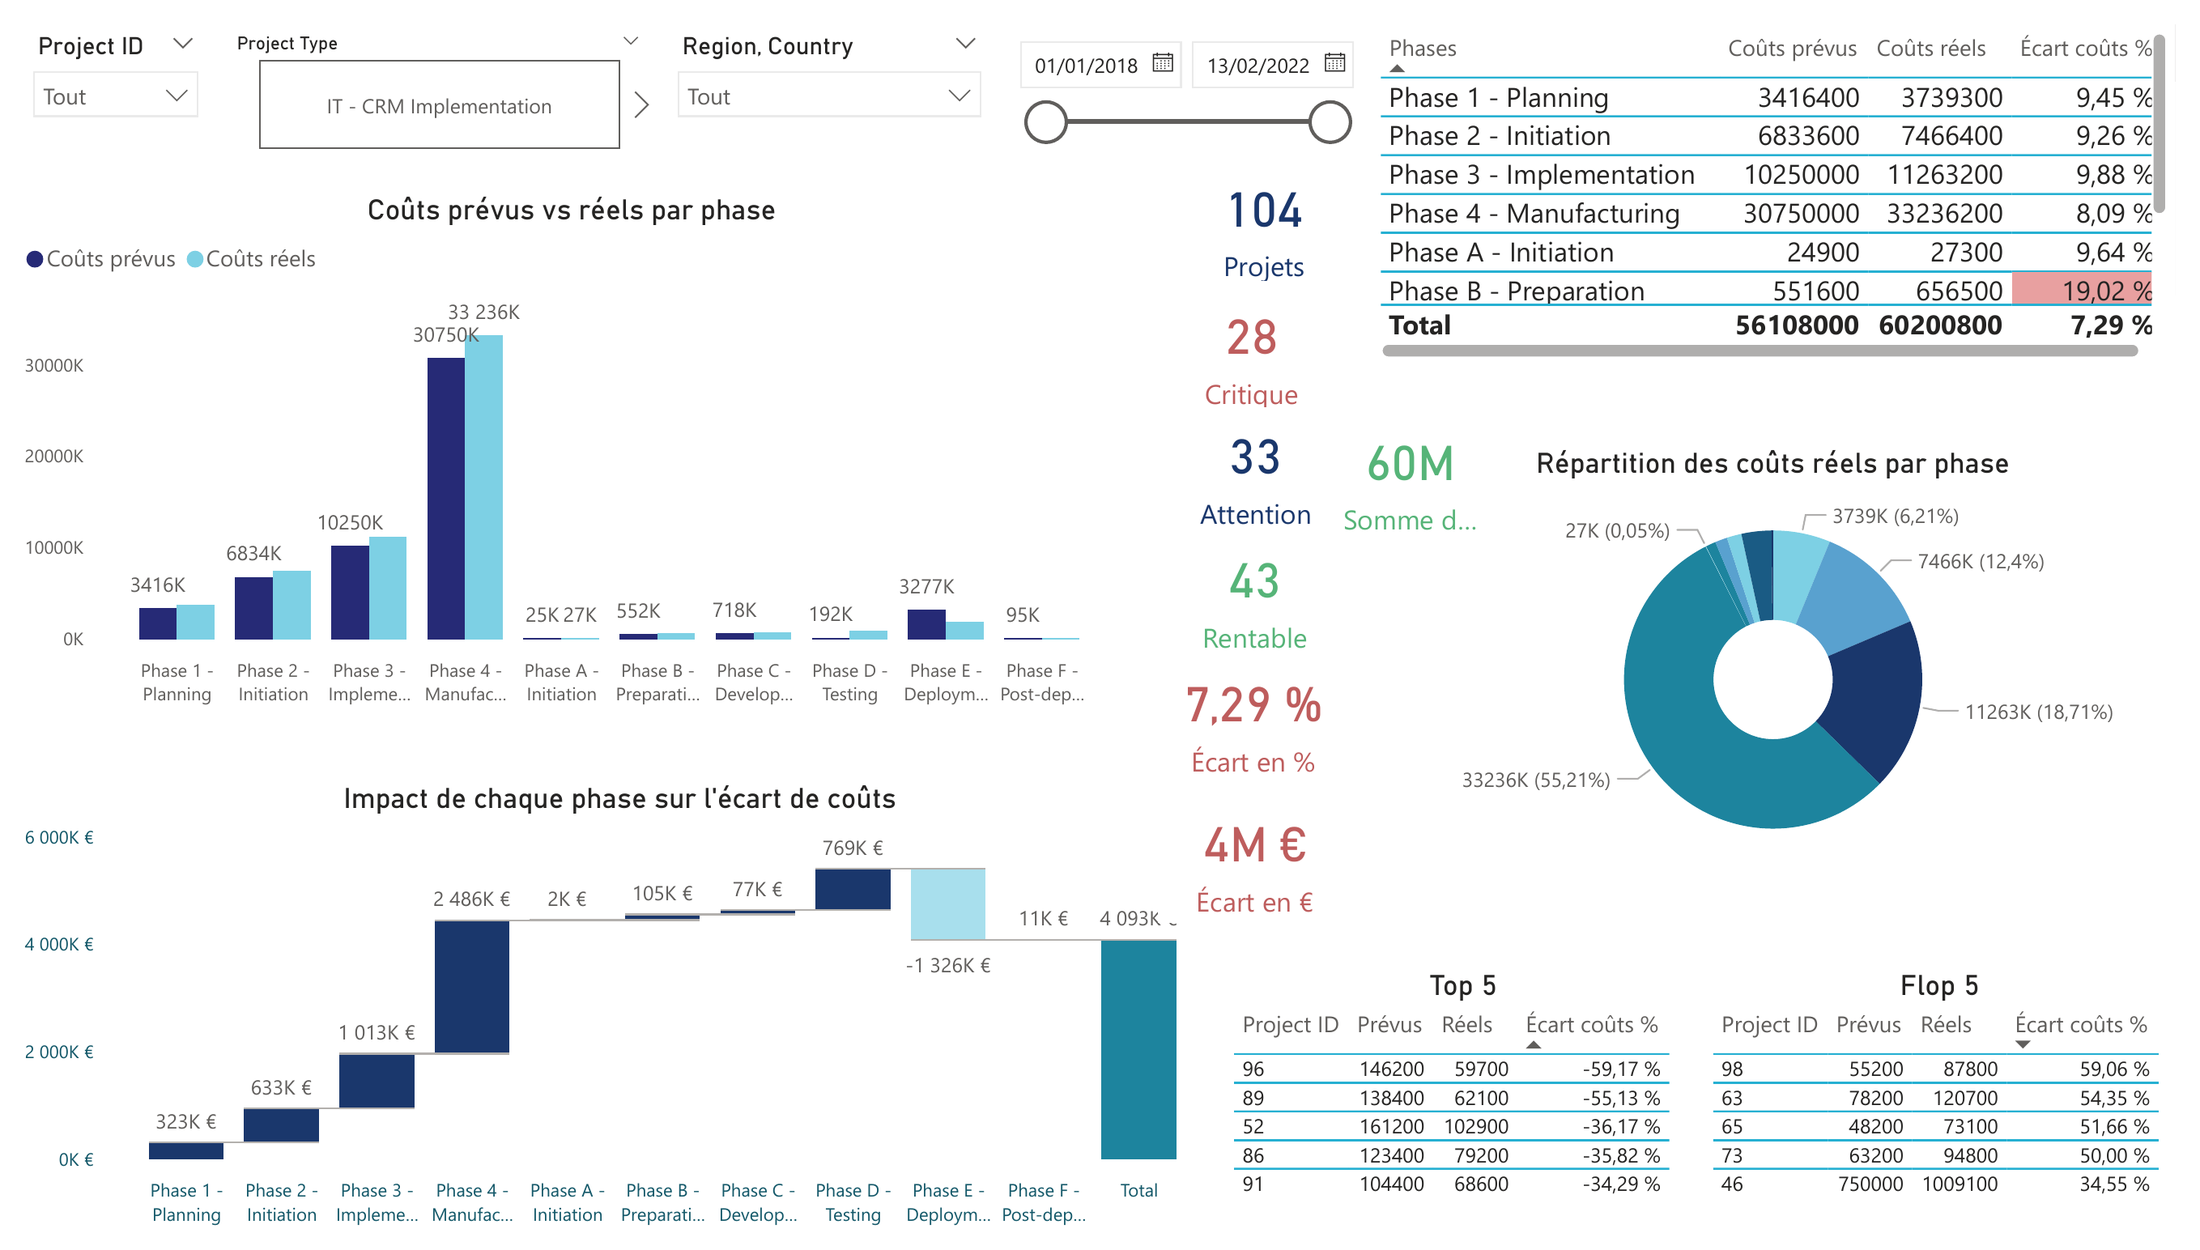

This screenshot's page, from the dashboard's own definition file:
{"tool":"powerbi","page":{"name":"Coûts","canvas":[1280,720],"ordinal":1},"visuals":[{"type":"slicer","fields":{"Values":["Projects_plans.Project ID"]},"box":[0,0,118,73],"z":0},{"type":"clusteredColumnChart","title":"Coûts prévus vs réels par phase","fields":{"Y":["Sum(Projects_plans.Planned_Cost)","Sum(Actual_Costs.Actual_Cost)"],"Category":["Actual_Costs.Phase"]},"box":[0,100,658.9,312.2],"z":1000},{"type":"tableEx","title":"Détails des écarts de coûts par phase","fields":{"Values":["Projects_plans.Phase","Sum(Projects_plans.Planned_Cost)","Sum(Actual_Costs.Actual_Cost)","Actual_Costs.ecart_cout_%"]},"box":[790.2,0,492.7,202.4],"z":2000},{"type":"donutChart","title":"Répartition des coûts réels par phase","fields":{"Y":["Sum(Actual_Costs.Actual_Cost)"],"Category":["Actual_Costs.Phase"]},"box":[802.9,229,476.8,304.3],"z":3000},{"type":"slicer","fields":{"Values":["Project type.Project Type"]},"box":[117.8,0,264.4,81.1],"z":4000},{"type":"slicer","fields":{"Values":["Country_Profiles.Region","Country_Profiles.Country"]},"box":[382.2,0,200,73.3],"z":5000},{"type":"card","fields":{"Values":["Actual_Costs.ecart_cout_%"]},"box":[673.3,375.6,121.1,73.3],"z":6000},{"type":"waterfallChart","title":"Impact de chaque phase sur l''écart de coûts","fields":{"Y":["Actual_Costs.ecart_cout_valeur"],"Category":["Actual_Costs.Phase"]},"box":[0,449,658.8,270.6],"z":7000},{"type":"tableEx","title":"Top 5 ","fields":{"Values":["Projects_plans.Project ID","Sum(Projects_plans.Planned_Cost)","Sum(Actual_Costs.Actual_Cost)","Actual_Costs.ecart_cout_%"]},"box":[658.8,558.8,300,160.8],"z":8000},{"type":"card","fields":{"Values":["Actual_Costs.nmb_projets"]},"box":[678.9,81.1,102.2,75.6],"z":9000},{"type":"card","fields":{"Values":["Actual_Costs.projects+15%"]},"box":[688.9,156.7,86.7,75.6],"z":10000},{"type":"card","fields":{"Values":["Actual_Costs.project-15%"]},"box":[688.9,302.2,91.1,73.3],"z":11000},{"type":"card","fields":{"Values":["Actual_Costs.projects_a_surveiller"]},"box":[688.9,228.9,92.2,73.3],"z":12000},{"type":"tableEx","title":"Flop 5","fields":{"Values":["Projects_plans.Project ID","Sum(Projects_plans.Planned_Cost)","Sum(Actual_Costs.Actual_Cost)","Actual_Costs.ecart_cout_%"]},"box":[971.9,559.6,310.5,163.2],"z":13000},{"type":"card","fields":{"Values":["Actual_Costs.ecart_cout_valeur"]},"box":[676.7,457.8,115.6,75.6],"z":14000},{"type":"slicer","fields":{"Values":["Projects_plans.Start Date"]},"box":[570.7,0,217.1,73.2],"z":15000},{"type":"card","fields":{"Values":["Sum(Actual_Costs.Actual_Cost)"]},"box":[989.9,359.4,102.9,52.2],"z":15500}]}

Visuals, with their boxes in screenshot pixels (x1, y1, x2, y2), scaled from the page's 1280x720 canvas onto the 2200x1250 screenshot:
slicer - Projects_plans.Project ID: [0, 0, 203, 127]
"Coûts prévus vs réels par phase" clusteredColumnChart: [0, 174, 1132, 716]
"Détails des écarts de coûts par phase" tableEx: [1358, 0, 2199, 351]
"Répartition des coûts réels par phase" donutChart: [1380, 398, 2199, 926]
slicer - Project type.Project Type: [202, 0, 657, 141]
slicer - Country_Profiles.Region x Country_Profiles.Country: [657, 0, 1001, 127]
card - Actual_Costs.ecart_cout_%: [1157, 652, 1365, 779]
"Impact de chaque phase sur l''écart de coûts" waterfallChart: [0, 780, 1132, 1249]
"Top 5 " tableEx: [1132, 970, 1648, 1249]
card - Actual_Costs.nmb_projets: [1167, 141, 1343, 272]
card - Actual_Costs.projects+15%: [1184, 272, 1333, 403]
card - Actual_Costs.project-15%: [1184, 525, 1341, 652]
card - Actual_Costs.projects_a_surveiller: [1184, 397, 1343, 525]
"Flop 5" tableEx: [1670, 972, 2199, 1249]
card - Actual_Costs.ecart_cout_valeur: [1163, 795, 1362, 926]
slicer - Projects_plans.Start Date: [981, 0, 1354, 127]
card - Sum(Actual_Costs.Actual_Cost): [1701, 624, 1878, 715]
